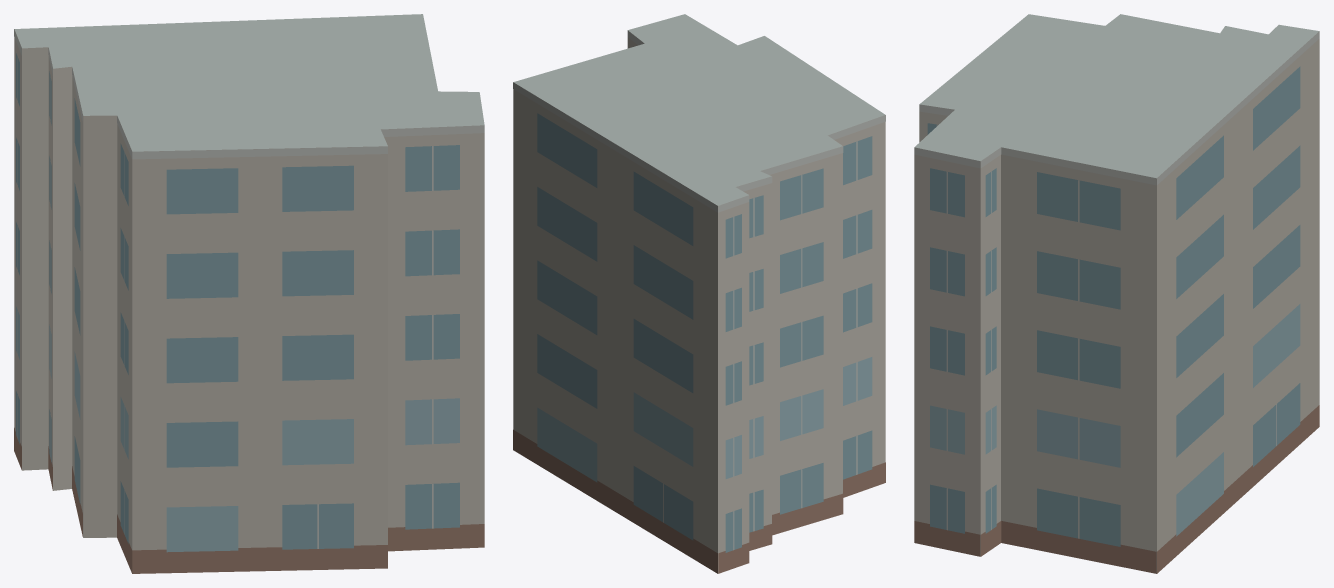
File: survey-upis-33009793.glb
The picture shows the model from 3 angles, left to right: view 1: azimuth 30°, elevation 25°; view 2: azimuth 150°, elevation 25°; view 3: azimuth 270°, elevation 25°; orthographic projection. The views are drawn at different scales.
Visible parts, largest first — view 1: survey-upis-33009793.tmp; view 2: survey-upis-33009793.tmp; view 3: survey-upis-33009793.tmp.
Part boxes in pixels (x1,y1,x2,y2): survey-upis-33009793.tmp: (14,14,484,573); survey-upis-33009793.tmp: (513,14,885,573); survey-upis-33009793.tmp: (914,14,1319,573).
Size of the model in its own units: 11.85 by 13.3 by 12.36.
